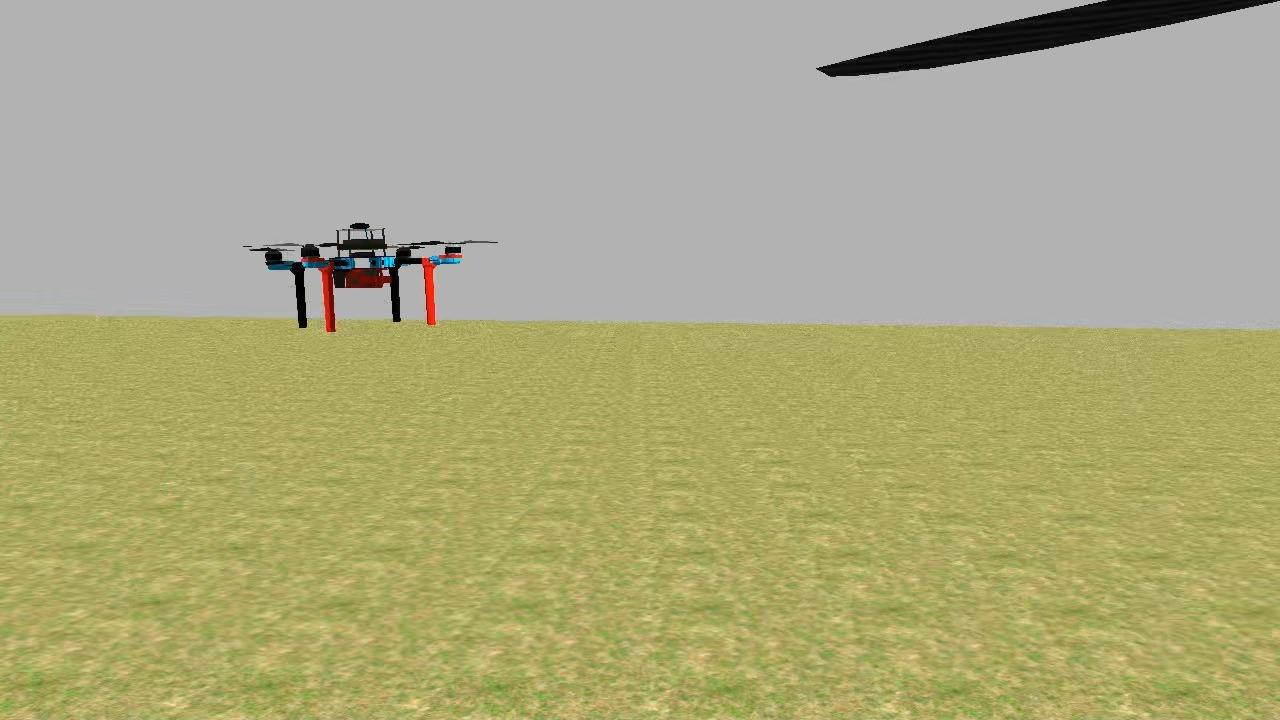UAV: (252, 211, 468, 334)
